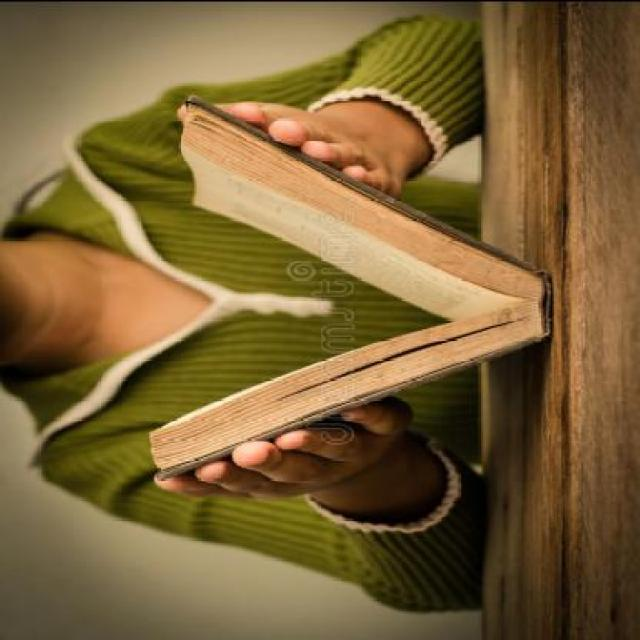book: (135, 73, 559, 562)
